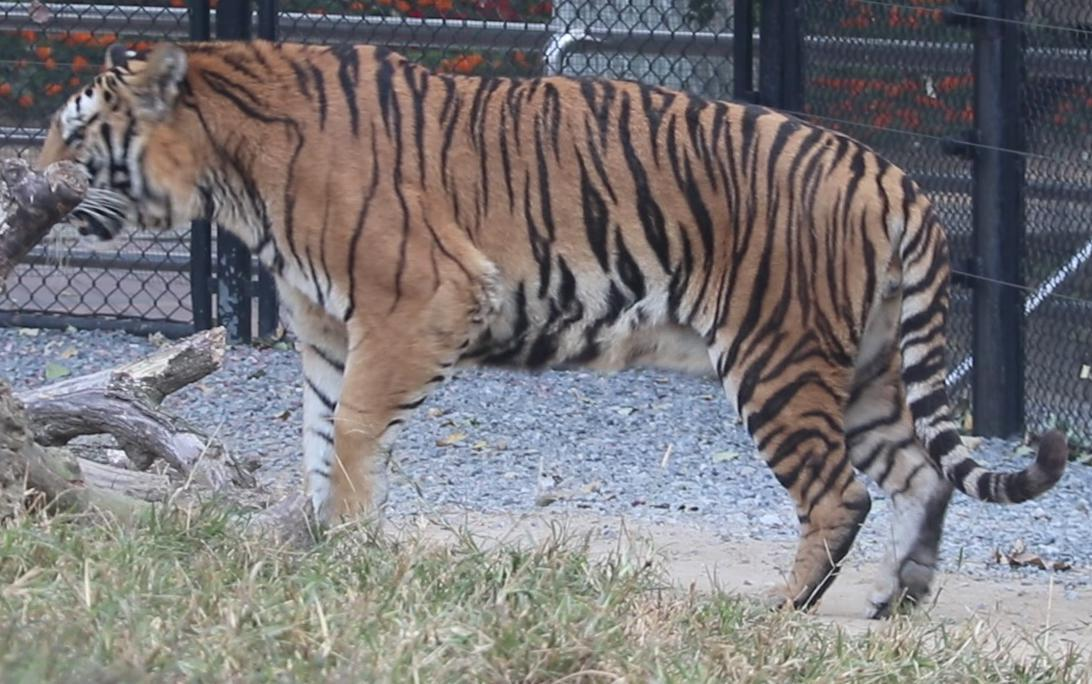tiger: (39, 41, 1065, 616)
